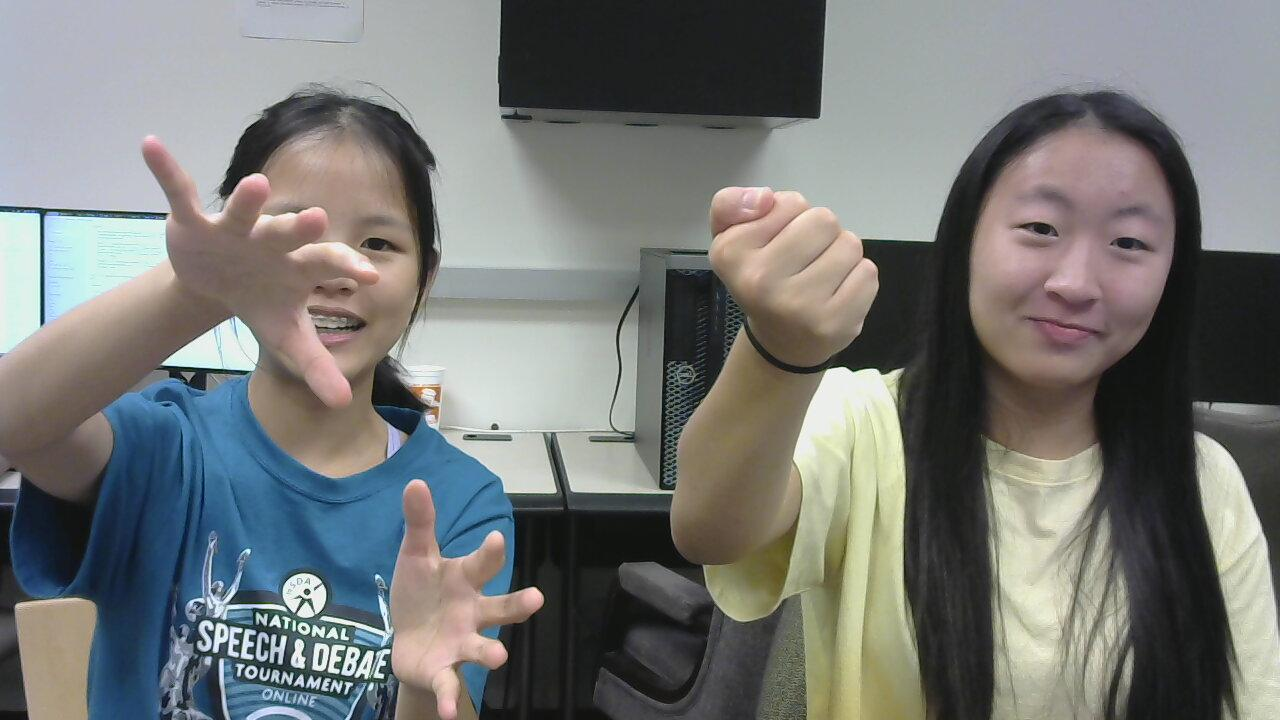fist: (710, 171, 877, 358)
hands: (115, 95, 409, 404), (371, 465, 551, 720)
